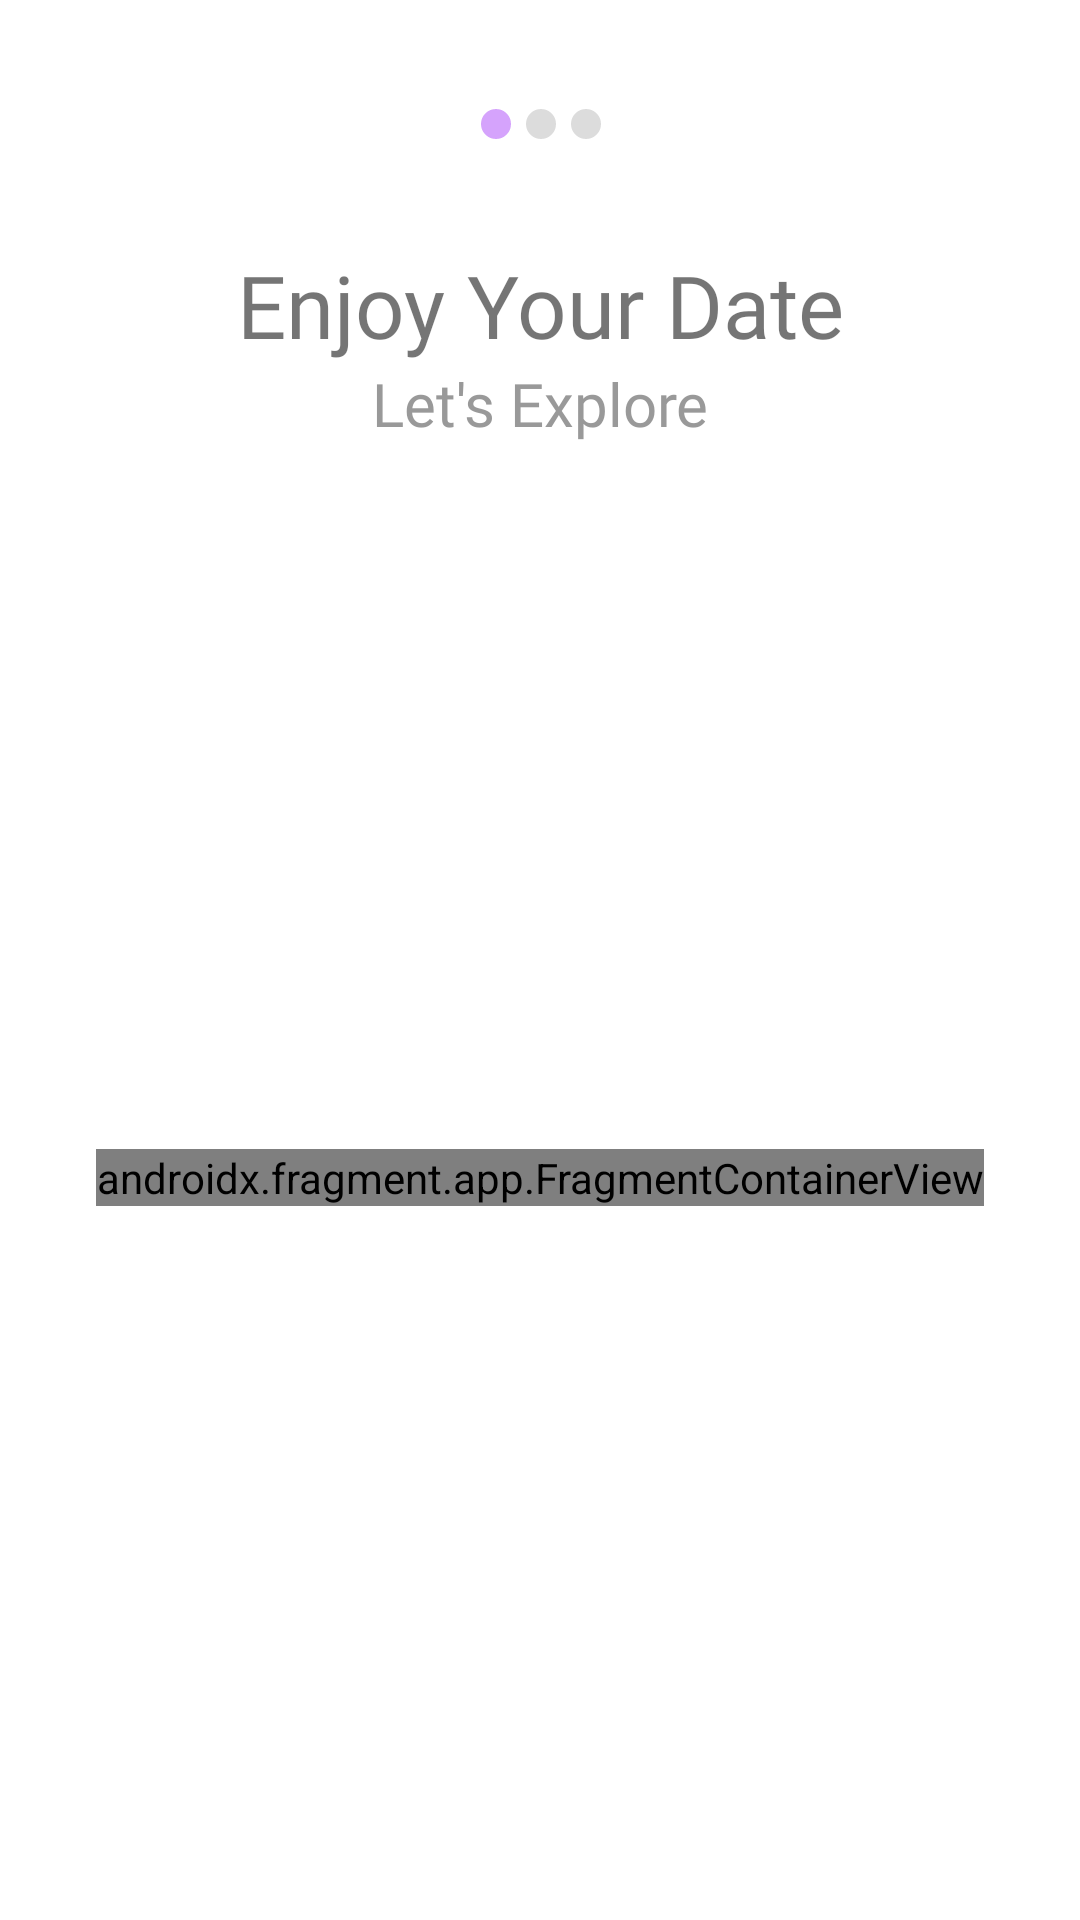

Icons on this 1080×1920 Android screen, each with its box as (x1, y1, x2, y2):
dots: (481, 109, 601, 139)
